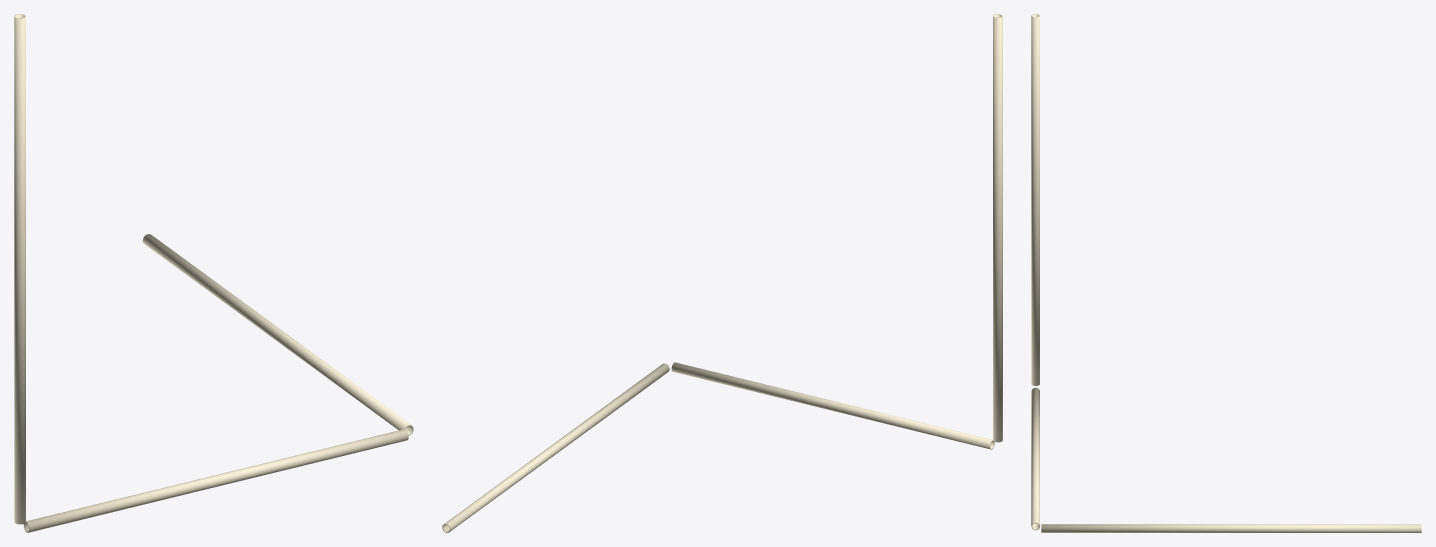
File: pipes_supply__water_heater__251798a6.glb
The picture shows the model from 3 angles, left to right: view 1: azimuth 30°, elevation 25°; view 2: azimuth 150°, elevation 25°; view 3: azimuth 270°, elevation 25°; orthographic projection. The views are drawn at different scales.
Parts seen in each view (by area): view 1: pipe_supply_cold_riser_tmv_lo_flo_s; view 2: pipe_supply_cold_riser_tmv_lo_flo_s; view 3: pipe_supply_cold_riser_tmv_lo_flo_s.
Part boxes in pixels (x1=…): pipe_supply_cold_riser_tmv_lo_flo_s: x1=14, y1=14, x2=413, y2=532; pipe_supply_cold_riser_tmv_lo_flo_s: x1=442, y1=14, x2=1002, y2=532; pipe_supply_cold_riser_tmv_lo_flo_s: x1=1031, y1=14, x2=1421, y2=532.
Bounding box in the file's own units: 0.8772 × 1.08 × 1.01.
